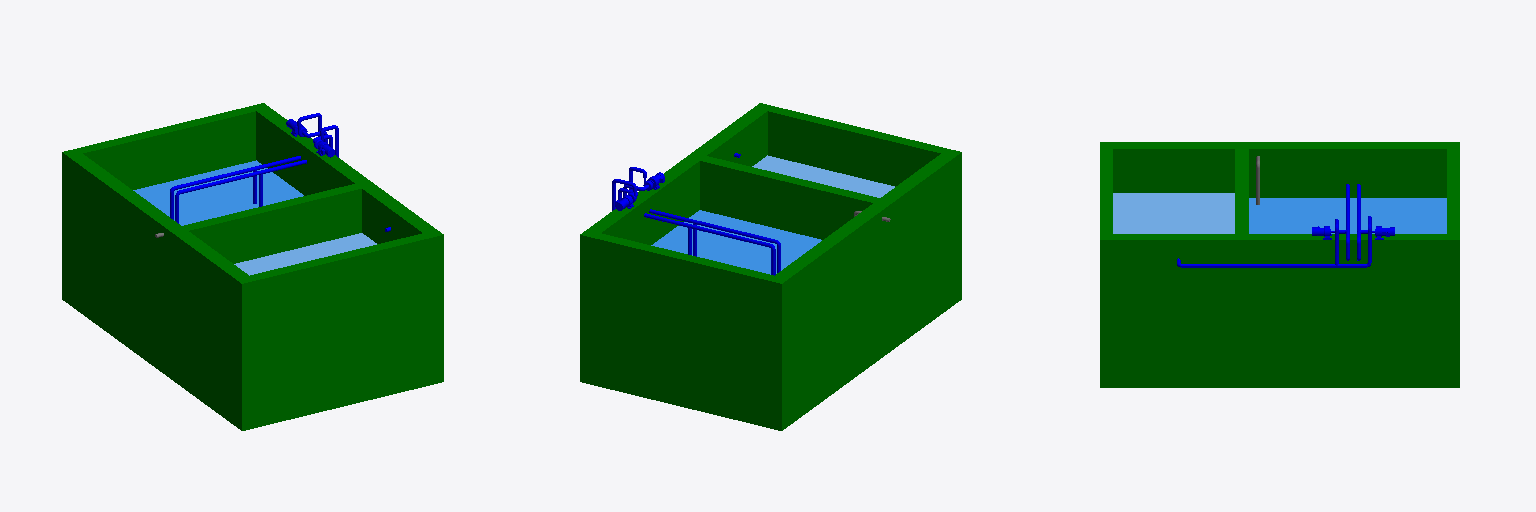
The model's file is SCMBR-chi.obj.
3 views of the same model, side by side, from view 1: azimuth 30°, elevation 25°; view 2: azimuth 150°, elevation 25°; view 3: azimuth 270°, elevation 25° (orthographic).
Parts seen in each view (by area): view 1: NONE_DC_Brep; view 2: NONE_DC_Brep; view 3: NONE_DC_Brep.
Part boxes in pixels (bbox=[...]): NONE_DC_Brep: bbox=[62, 103, 443, 430]; NONE_DC_Brep: bbox=[580, 103, 961, 430]; NONE_DC_Brep: bbox=[1100, 142, 1459, 387].
Bounding box in the file's own units: 9438 × 6842 × 13300.